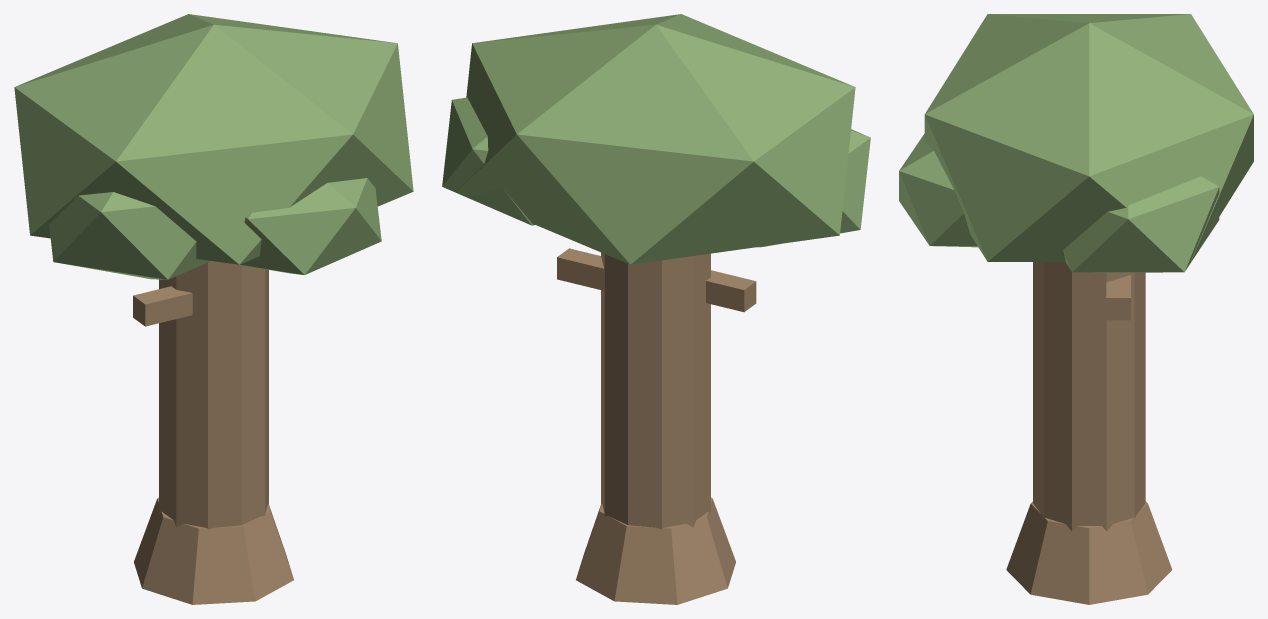
Rendered from tree_oak.glb.
3 views of the same model, side by side, from view 1: azimuth 30°, elevation 25°; view 2: azimuth 150°, elevation 25°; view 3: azimuth 270°, elevation 25° (orthographic).
Visible parts, largest first — view 1: tree_oak; view 2: tree_oak; view 3: tree_oak.
Part boxes in pixels (x1=…): tree_oak: x1=14, y1=14, x2=413, y2=604; tree_oak: x1=442, y1=14, x2=870, y2=604; tree_oak: x1=899, y1=14, x2=1253, y2=604.
Size of the model in its own units: 1.74 by 2.47 by 1.45.
